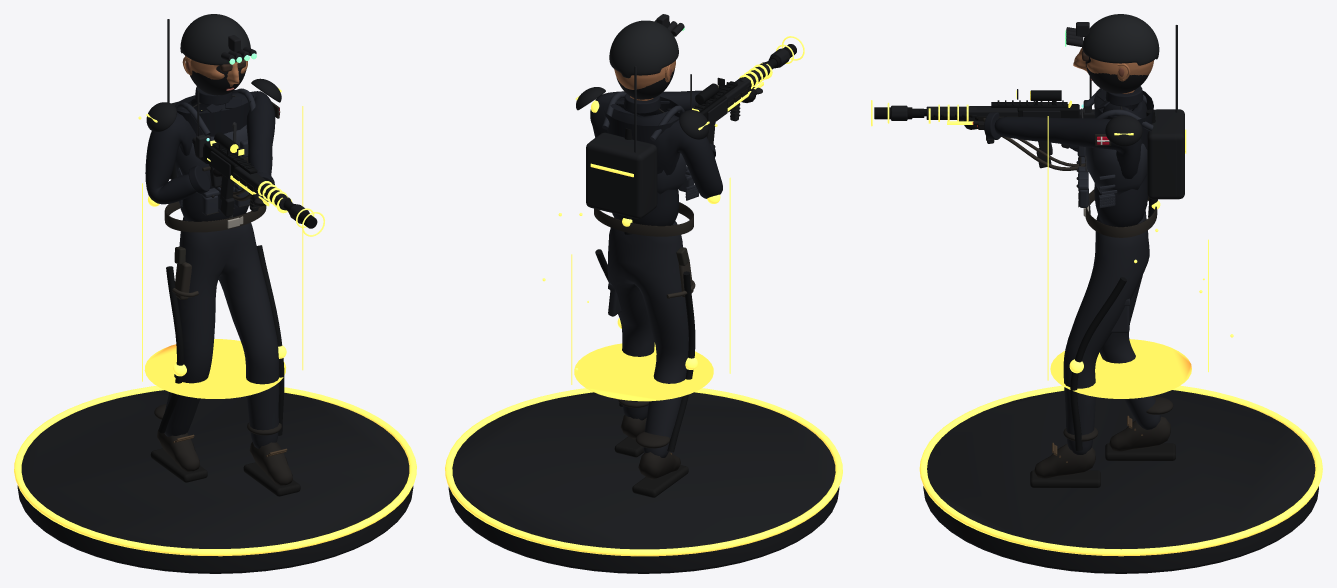
Rendered from vagt_nat.glb.
3 views of the same model, side by side, from view 1: azimuth 30°, elevation 25°; view 2: azimuth 150°, elevation 25°; view 3: azimuth 270°, elevation 25° (orthographic).
Parts seen in each view (by area): view 1: fod_net, menneske_net, overkrop_net, op4.002_net, hoved_net, op1.002_net, op4.001_net, op1.001_net, op3.001_net, vaaben_net, op3_net, op4.003_net (+2 smaller); view 2: fod_net, menneske_net, overkrop_net, op4.002_net, op4_net, hoved_net, op1.001_net, op1.002_net, op4.001_net, op3.001_net, op3_net, vaaben_net (+1 smaller); view 3: fod_net, menneske_net, overkrop_net, hoved_net, op4.002_net, op1.002_net, ned4_net, op4_net, vaaben_net, op4.001_net, op3.001_net, op1_net (+3 smaller).
Boxes of the visible parts, left/top/right/bottom form: fod_net: left=14, top=386, right=416, bottom=573; menneske_net: left=150, top=216, right=300, bottom=496; overkrop_net: left=145, top=86, right=280, bottom=221; op4.002_net: left=138, top=106, right=303, bottom=398; hoved_net: left=180, top=14, right=256, bottom=95; op1.002_net: left=175, top=88, right=255, bottom=215; op4.001_net: left=158, top=245, right=286, bottom=435; op1.001_net: left=164, top=201, right=266, bottom=299; op3.001_net: left=146, top=19, right=281, bottom=131; vaaben_net: left=192, top=137, right=293, bottom=211; op3_net: left=210, top=140, right=309, bottom=223; op4.003_net: left=201, top=110, right=324, bottom=236; fod_net: left=445, top=388, right=842, bottom=573; menneske_net: left=607, top=221, right=688, bottom=497; overkrop_net: left=590, top=85, right=762, bottom=225; op4.002_net: left=542, top=124, right=730, bottom=401; op4_net: left=586, top=100, right=720, bottom=234; hoved_net: left=609, top=14, right=684, bottom=99; op1.001_net: left=594, top=202, right=695, bottom=298; op1.002_net: left=602, top=74, right=715, bottom=194; op4.001_net: left=595, top=249, right=697, bottom=452; op3.001_net: left=575, top=66, right=709, bottom=152; op3_net: left=692, top=48, right=790, bottom=126; vaaben_net: left=694, top=58, right=777, bottom=119; fod_net: left=919, top=385, right=1322, bottom=573; menneske_net: left=1030, top=210, right=1175, bottom=487; overkrop_net: left=959, top=86, right=1153, bottom=226; hoved_net: left=1065, top=14, right=1159, bottom=93; op4.002_net: left=1047, top=116, right=1233, bottom=398; op1.002_net: left=1069, top=76, right=1153, bottom=207; ned4_net: left=1099, top=109, right=1176, bottom=205; op4_net: left=1099, top=109, right=1186, bottom=217; vaaben_net: left=912, top=100, right=1128, bottom=148; op4.001_net: left=1069, top=277, right=1126, bottom=451; op3.001_net: left=1105, top=25, right=1177, bottom=146; op1_net: left=924, top=90, right=1085, bottom=170.
Bounding box in the file's own units: 1.94 × 2.51 × 2.17.
